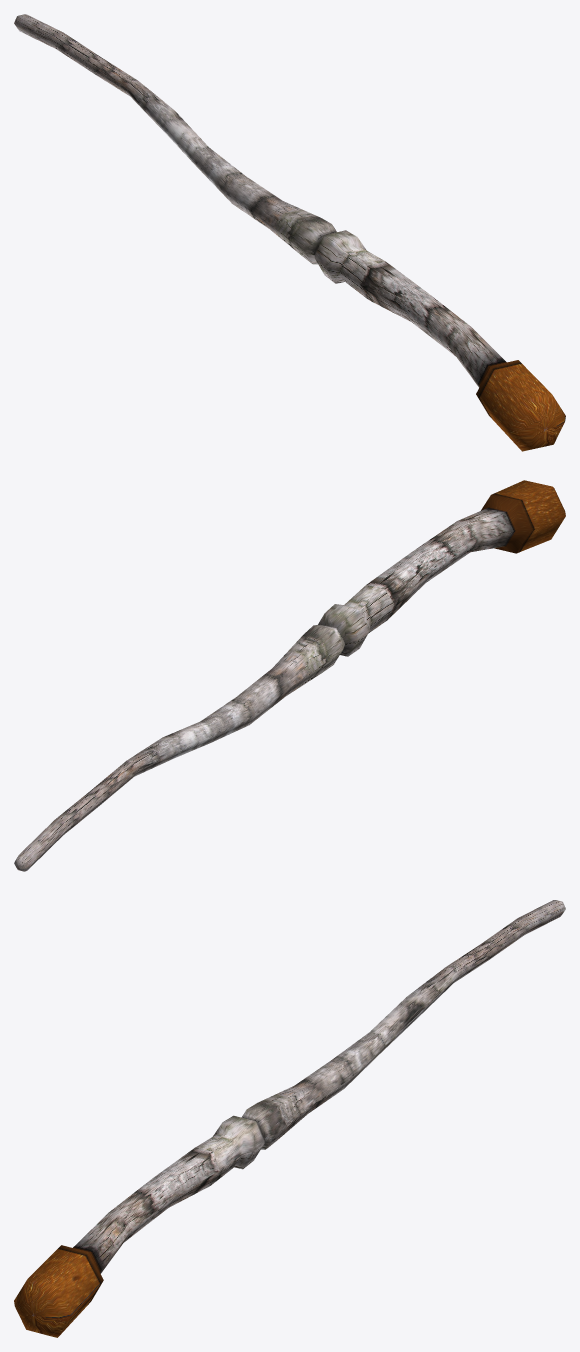
File: Wand_03.fbx
3 views of the same model, one above another, from view 1: azimuth 30°, elevation 25°; view 2: azimuth 150°, elevation 25°; view 3: azimuth 330°, elevation 25° (orthographic).
Visible parts, largest first — view 1: Cápsula; view 2: Cápsula; view 3: Cápsula.
Part boxes in pixels (left/top/right/bottom): Cápsula: left=14, top=14, right=565, bottom=451; Cápsula: left=14, top=480, right=565, bottom=871; Cápsula: left=14, top=900, right=565, bottom=1337.
Bounding box in the file's own units: 28.84 × 34.06 × 461.
1 material, 1 textured.
